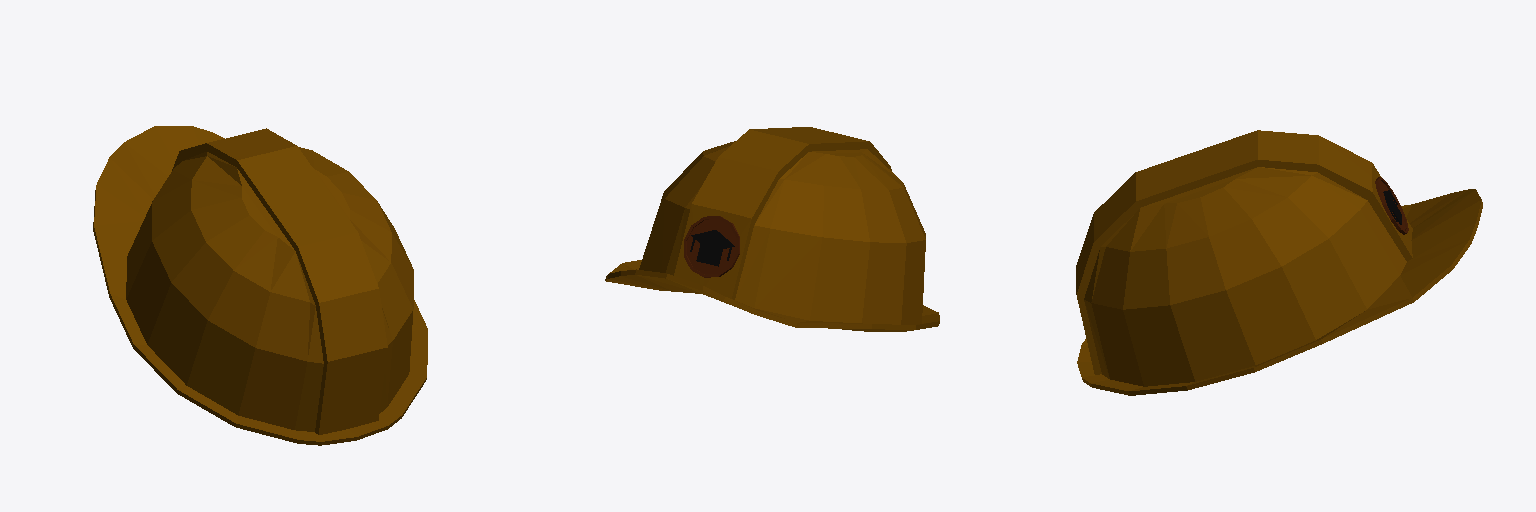
Rendered from contest_build_tutorial.obj.
3 views of the same model, side by side, from view 1: azimuth 30°, elevation 25°; view 2: azimuth 150°, elevation 25°; view 3: azimuth 270°, elevation 25° (orthographic).
Visible parts, largest first — view 1: 0; view 2: 0, 1, 2; view 3: 0, 1.
Boxes of the visible parts, <box> form: 0: <box>93,126,427,445</box>; 0: <box>605,127,939,331</box>; 1: <box>684,216,739,277</box>; 2: <box>690,230,734,266</box>; 0: <box>1076,130,1482,395</box>; 1: <box>1375,177,1408,234</box>.
Size of the model in its own units: 0.474 by 0.3719 by 0.6173.